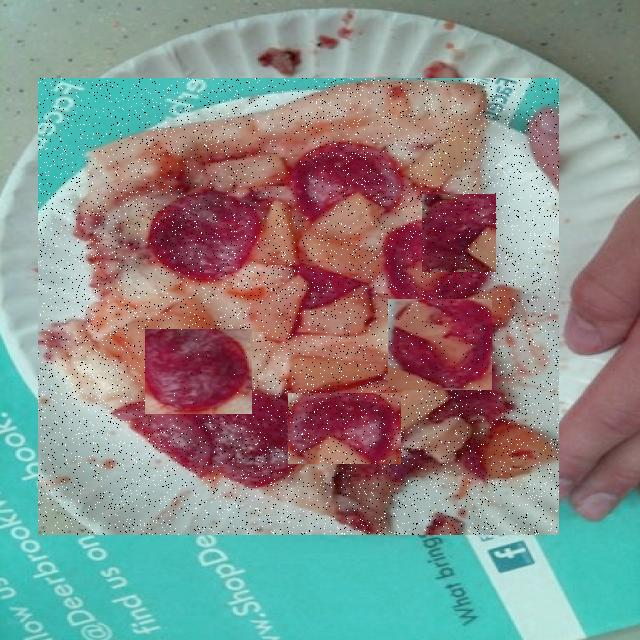Pepperoni: (388, 299, 492, 390), (146, 330, 254, 416), (212, 126, 311, 216), (288, 393, 401, 464), (118, 134, 215, 202), (422, 194, 496, 272)
Pizza: (38, 78, 559, 535)
